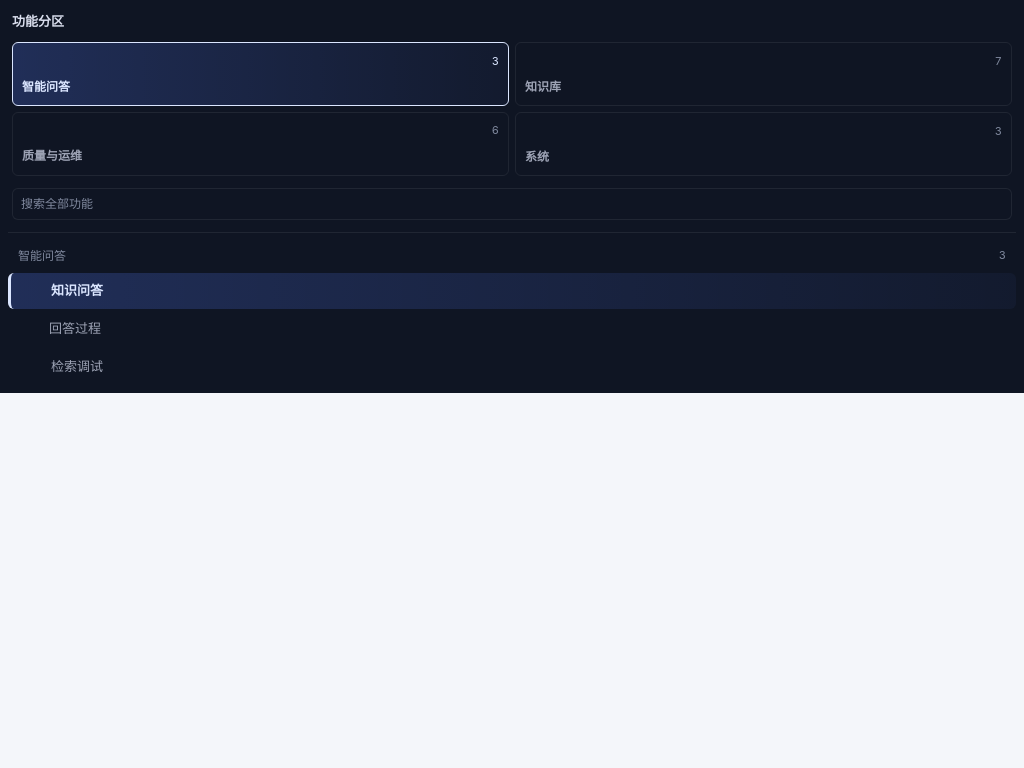
Test: WorkspaceNavigation › searches across all workspaces and returns to the selected workspace after clearing
Click the button "7 知识库": (543, 86) [515,42,1012,106]
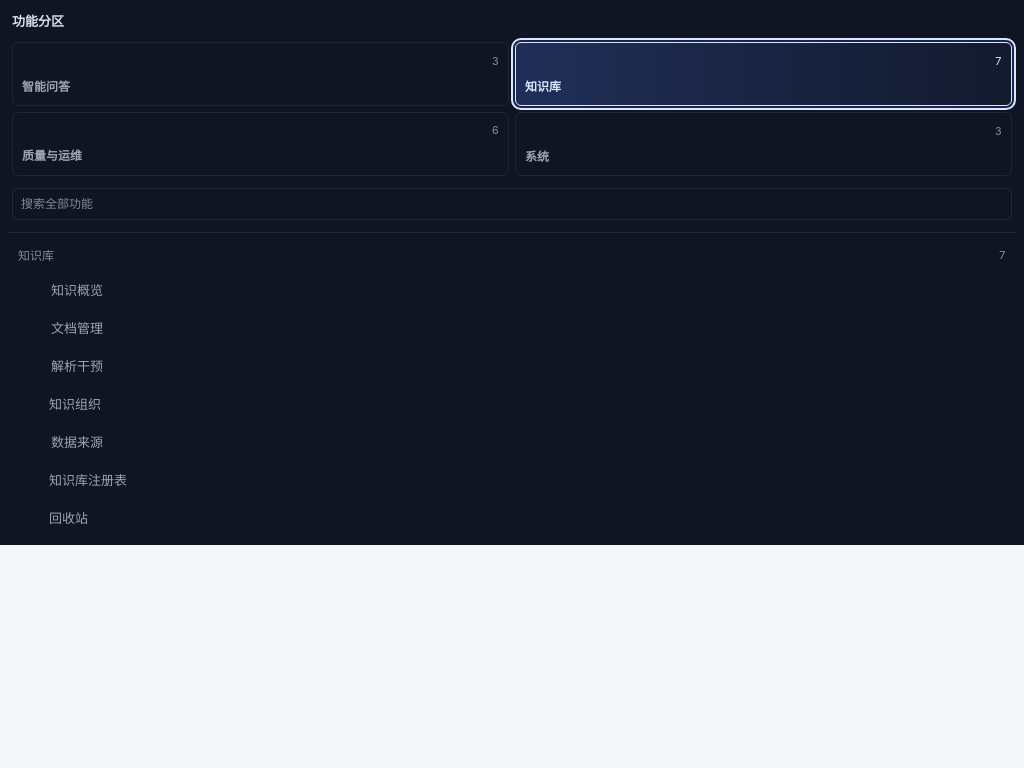
In the search field named "功能搜索": (512, 204) [12,188,1012,220], type "中心"
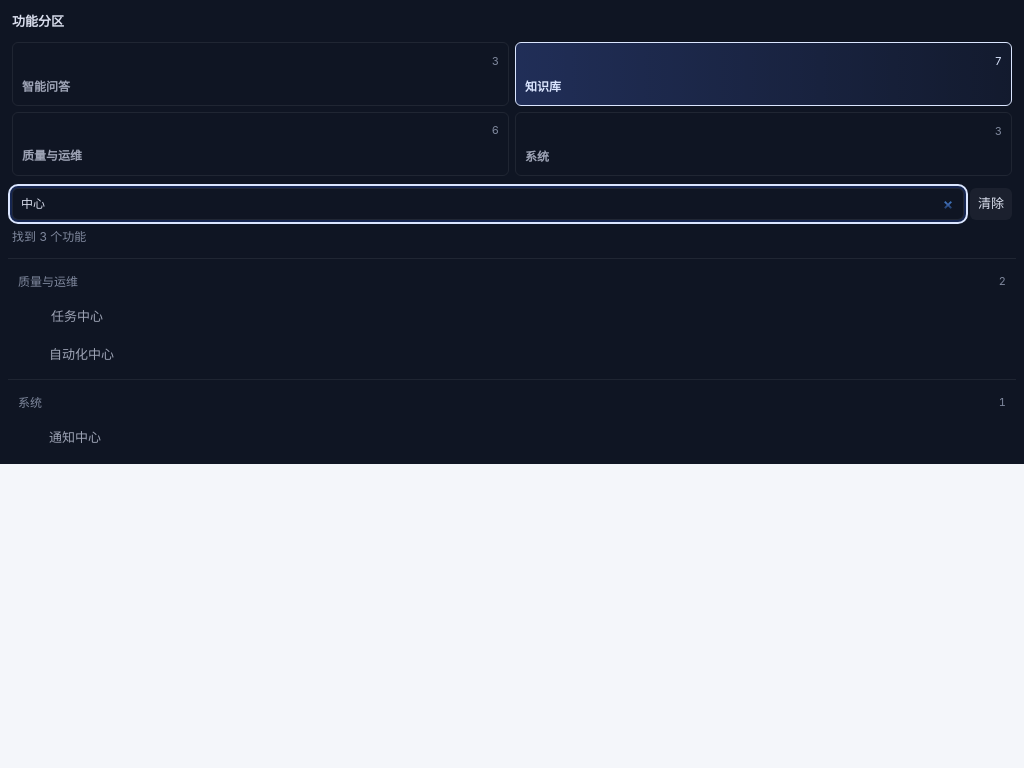
Expected: the number of lists is 2
Expected: the list named "质量与运维" is shown, [8,298,1016,372]
Expected: the list named "系统" is shown
Click the button "通知中心": (75, 437) [8,420,1016,456]
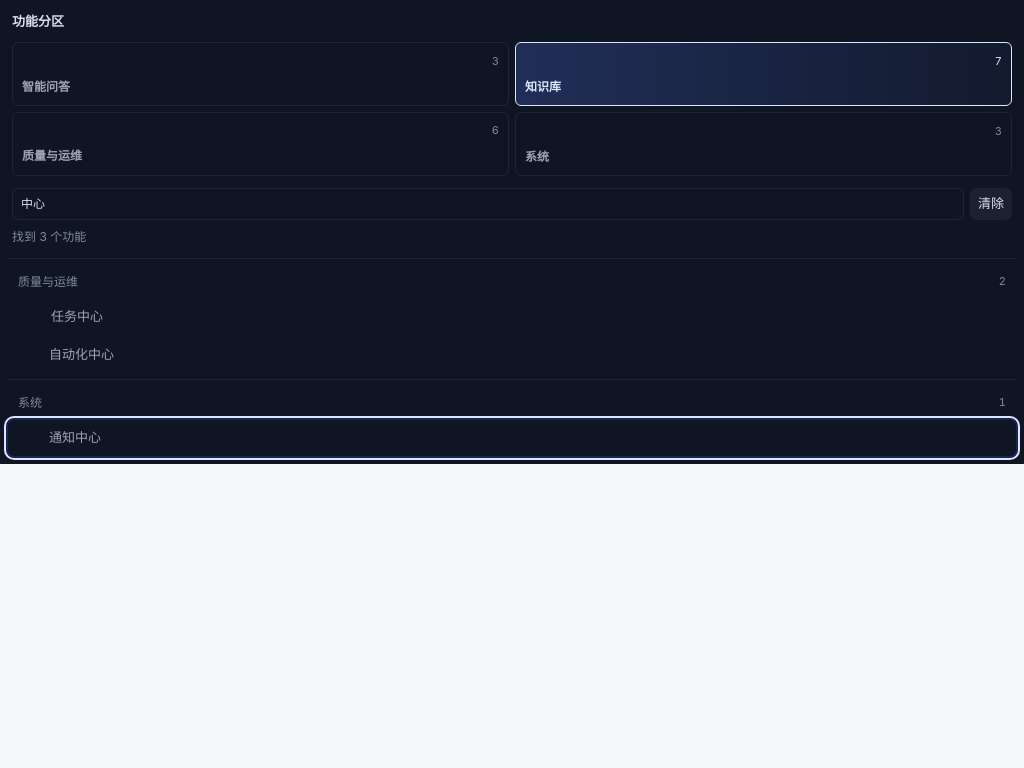
Click the button "3 系统": (999, 130) [515,112,1012,176]
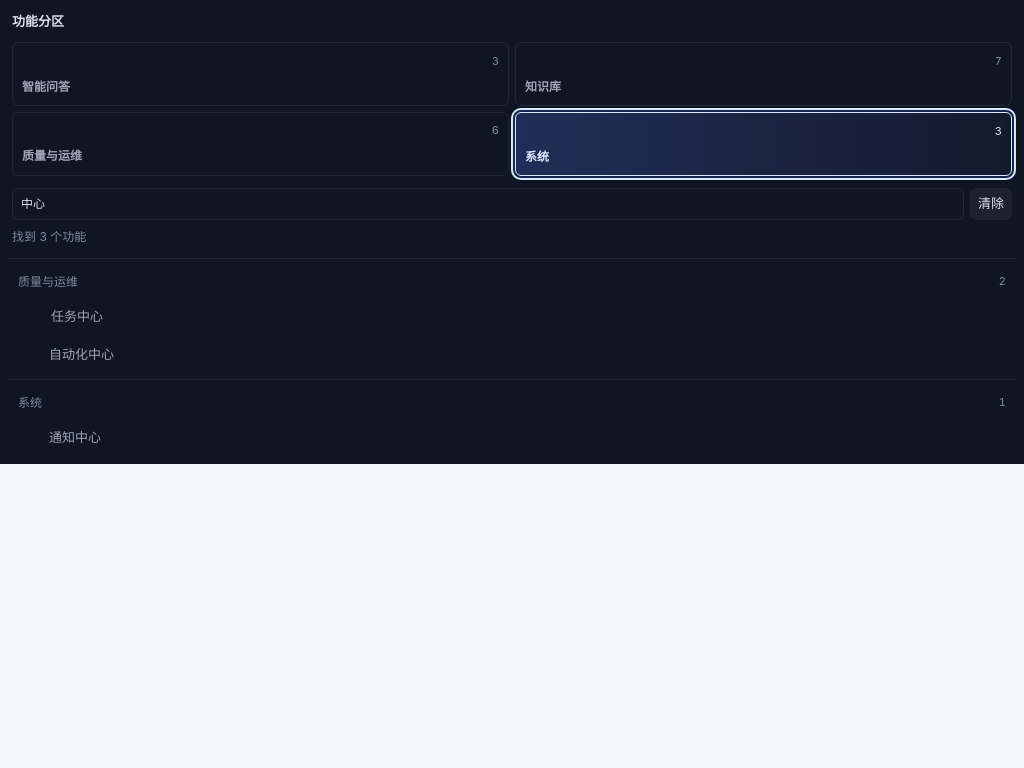
Expected: the number of lists is 2, [8,298,1016,372]; [8,420,1016,456]
Expected: the button "任务中心" is shown, [8,298,1016,334]
Click the button "清除": (991, 204) [970,188,1012,220]
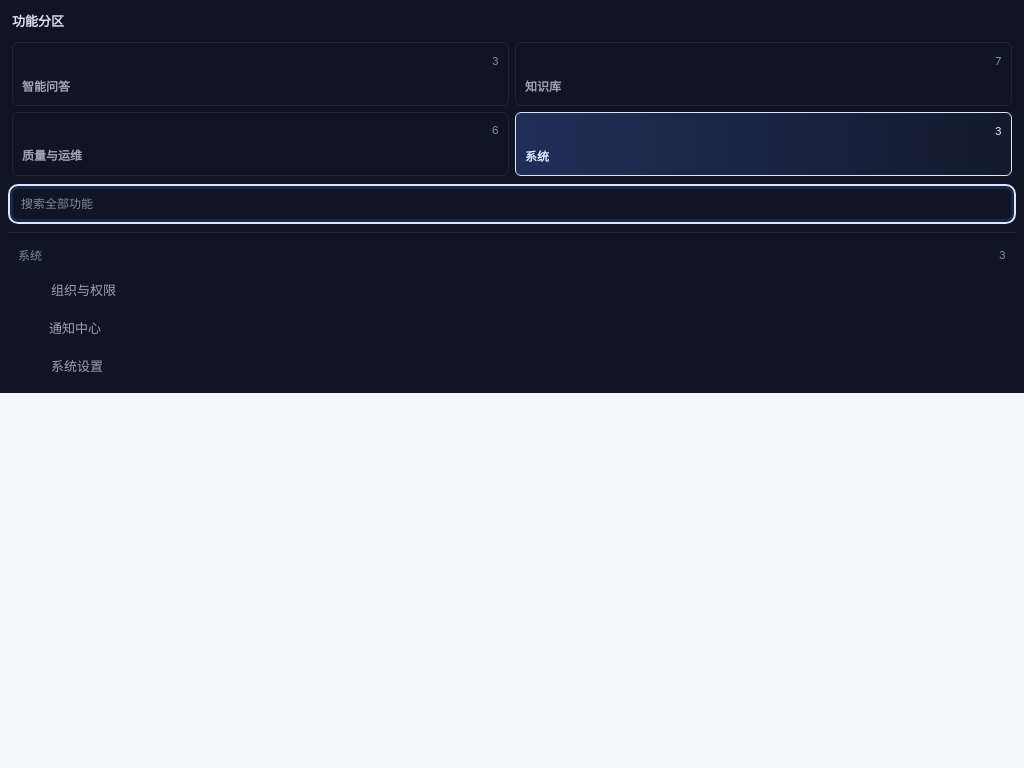
Expected: the button "3 系统" is shown, [515,112,1012,176]
Expected: the number of lists is 1, [8,272,1016,384]
Expected: the button "任务中心" is gone
